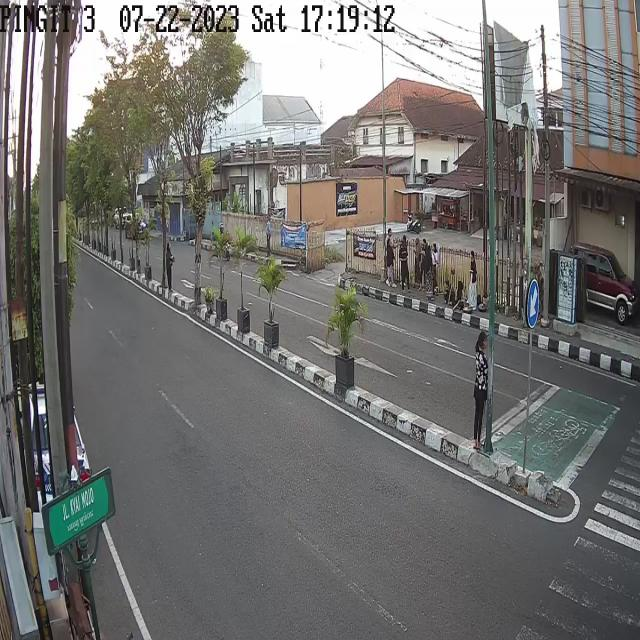car: (575, 244, 638, 325), (124, 209, 149, 247)
